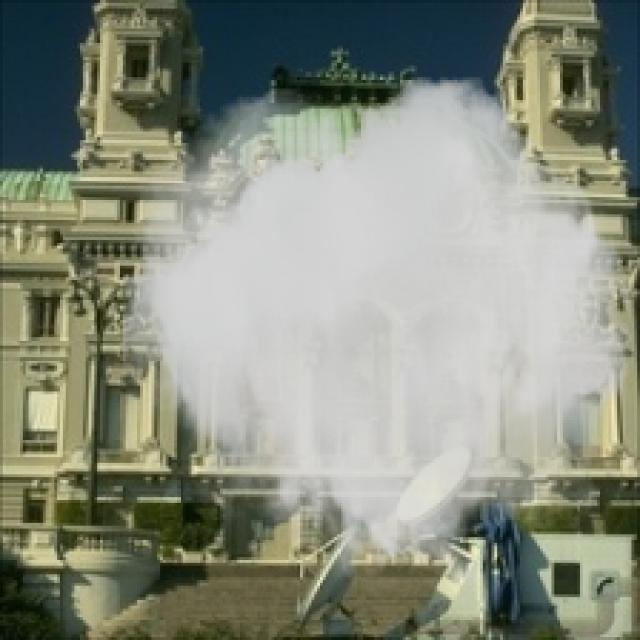smoke: (123, 77, 637, 594)
